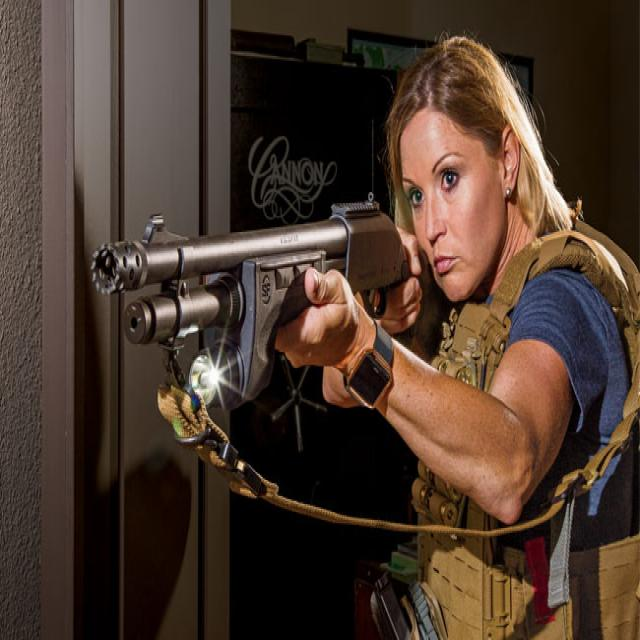ShotGun: (105, 210, 441, 413)
